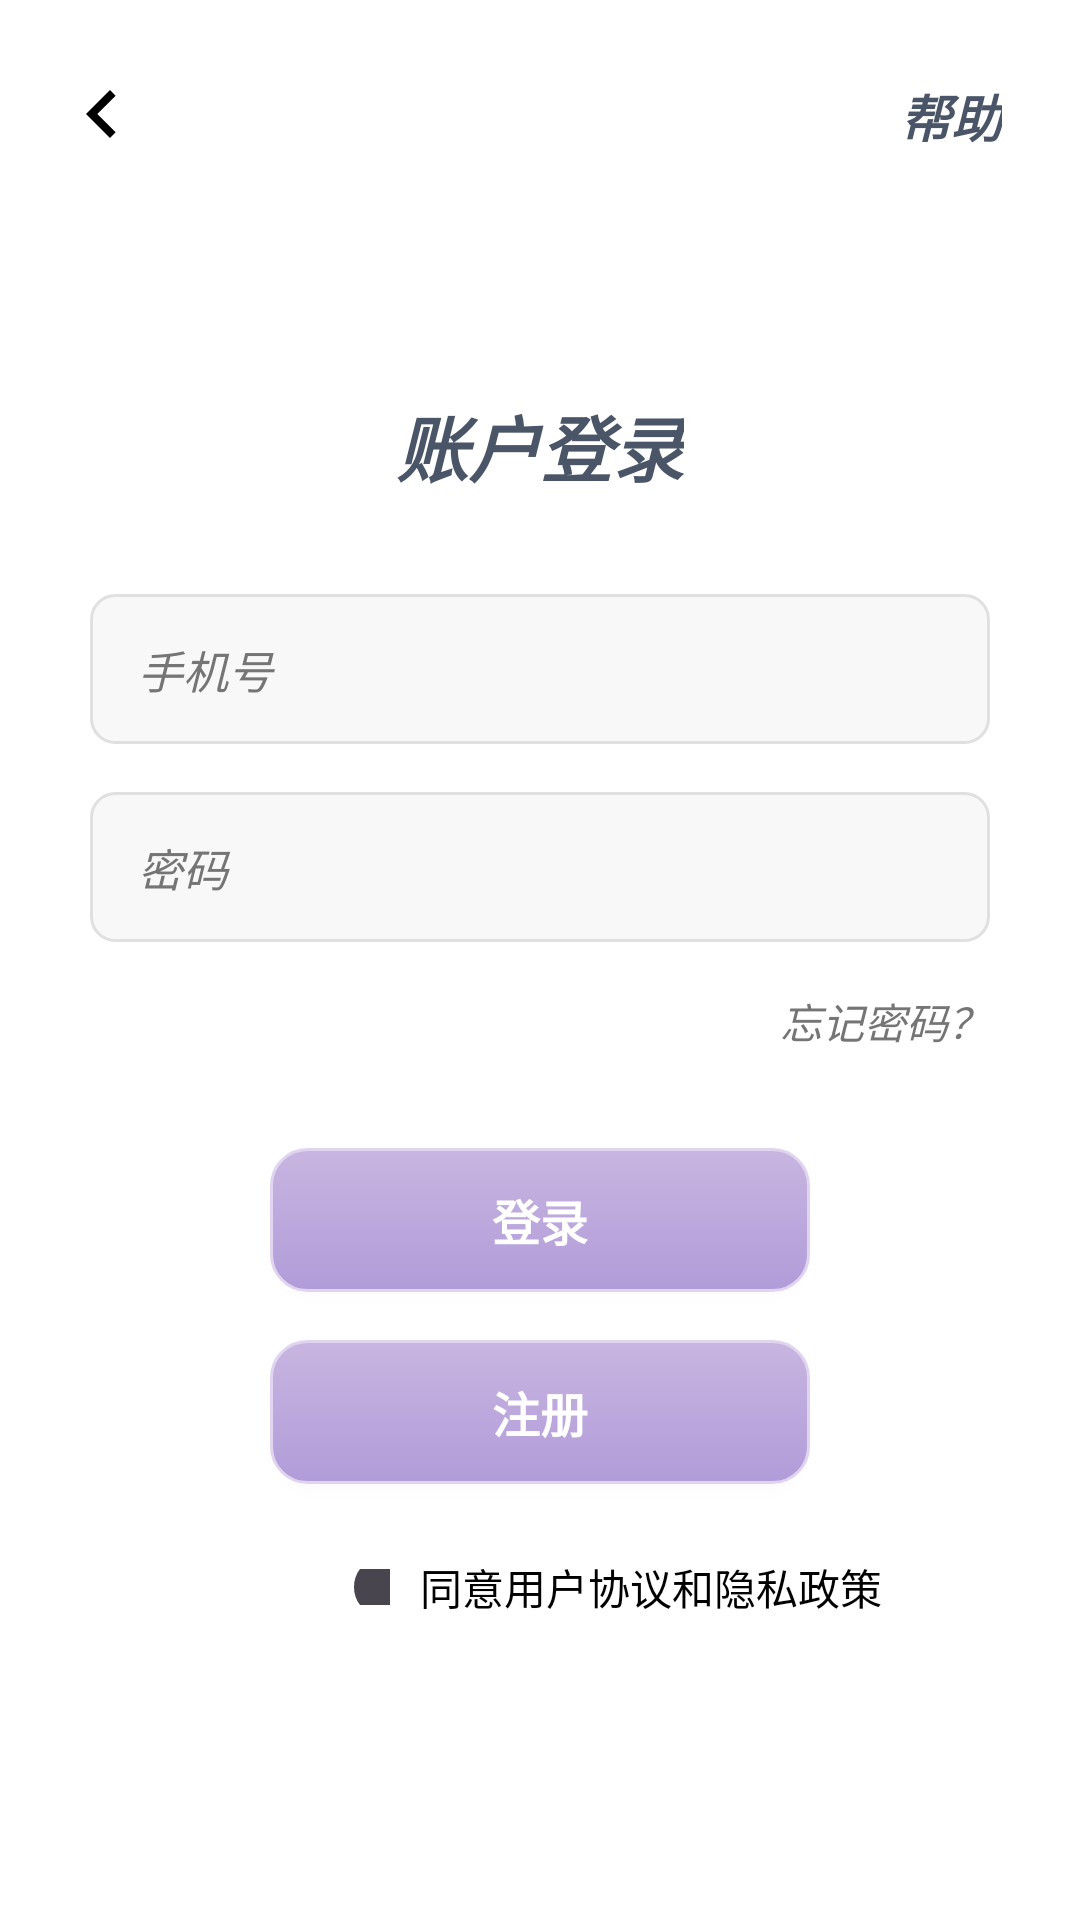

Screen size 1080*1920. Icon name, then its center in pixels as (x=x, y=y):
arrow left: (x=101, y=114)
